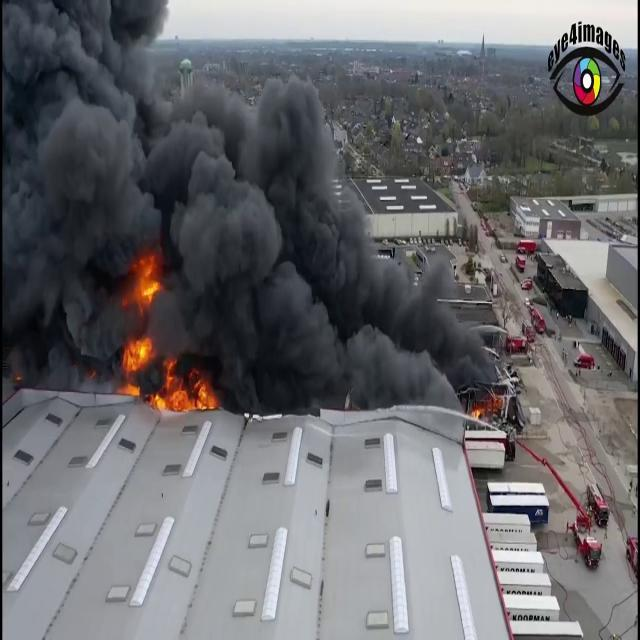Fire: (115, 250, 168, 388), (150, 359, 220, 413)
Smoke: (0, 34, 496, 416)
